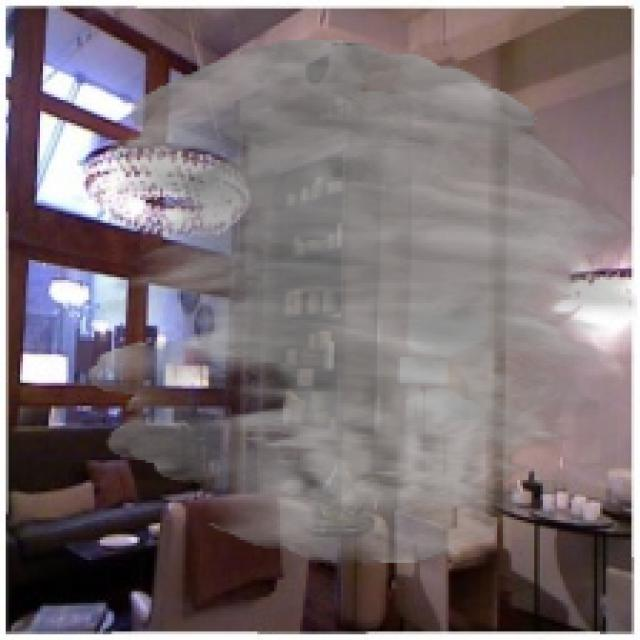smoke: (86, 40, 637, 566)
